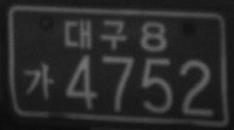2: (178, 58, 215, 118)
4: (64, 52, 98, 112)
5: (139, 56, 174, 114)
7: (100, 54, 135, 113)
8: (139, 19, 169, 53)
가: (23, 61, 55, 101)
대구_O: (63, 17, 129, 52)
